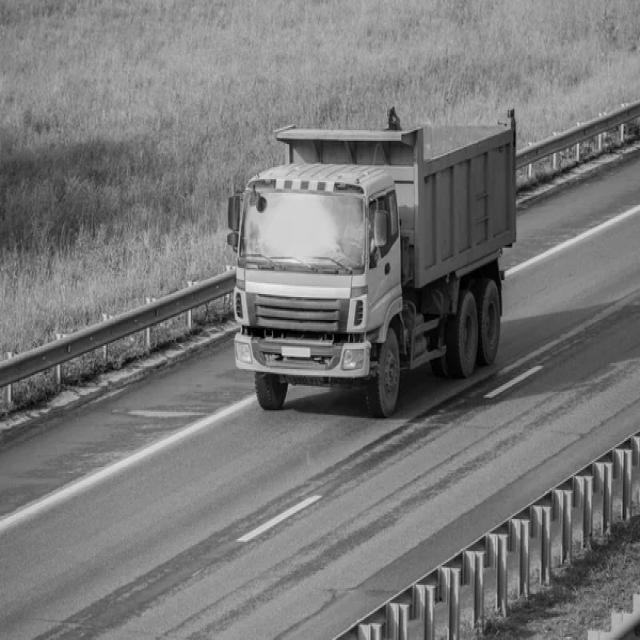Truck: (228, 107, 518, 417)
